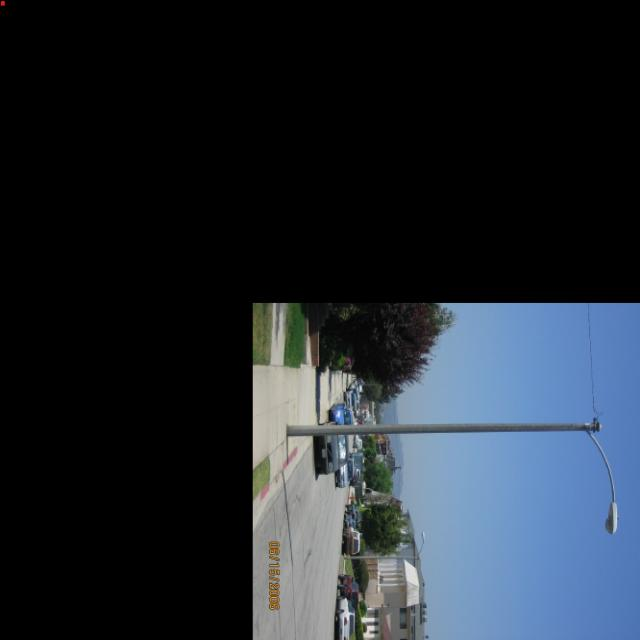Electric pole: (286, 419, 619, 535)
